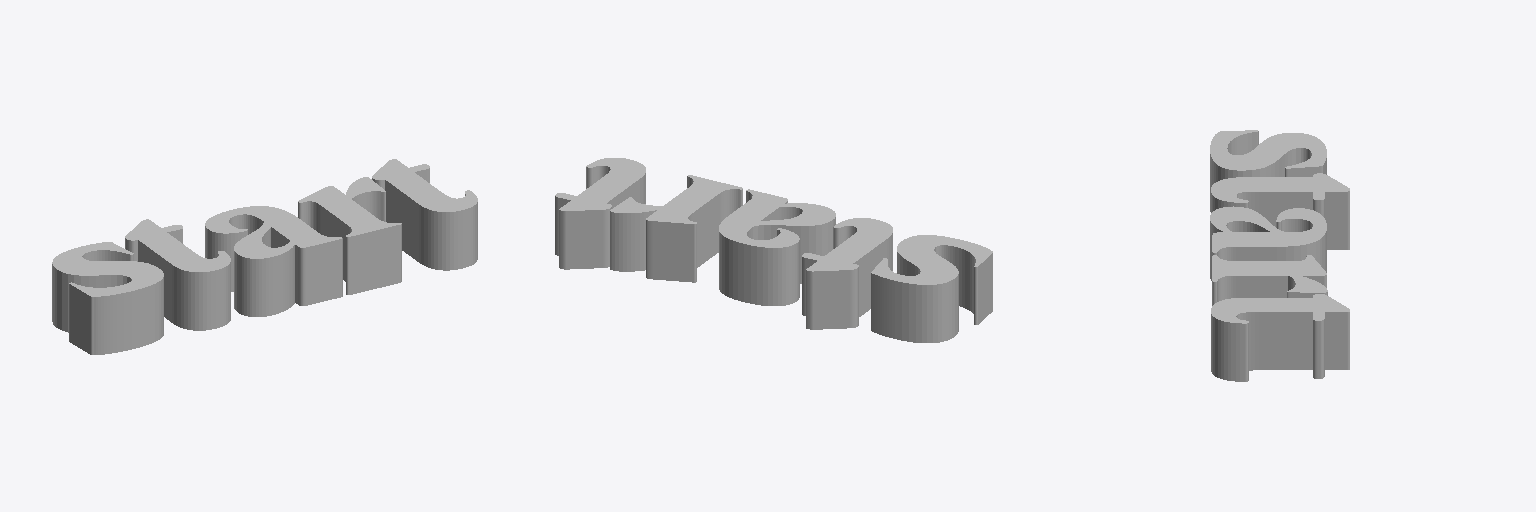
The model's file is start.obj.
The picture shows the model from 3 angles: view 1: azimuth 30°, elevation 25°; view 2: azimuth 150°, elevation 25°; view 3: azimuth 270°, elevation 25°; orthographic projection.
Parts seen in each view (by area): view 1: Start; view 2: Start; view 3: Start.
Boxes of the visible parts, x1,y1,x2,y2 form: Start: [52, 159, 477, 354]; Start: [555, 158, 992, 342]; Start: [1210, 130, 1349, 381].
Bounding box in the file's own units: 1.14 × 0.16 × 0.3483.